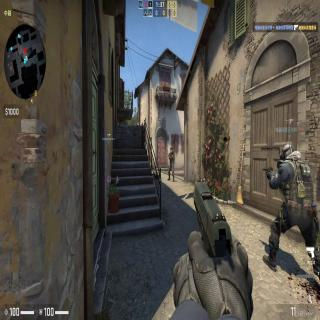T-Body: (167, 148, 175, 182)
T-Head: (170, 148, 173, 153)
